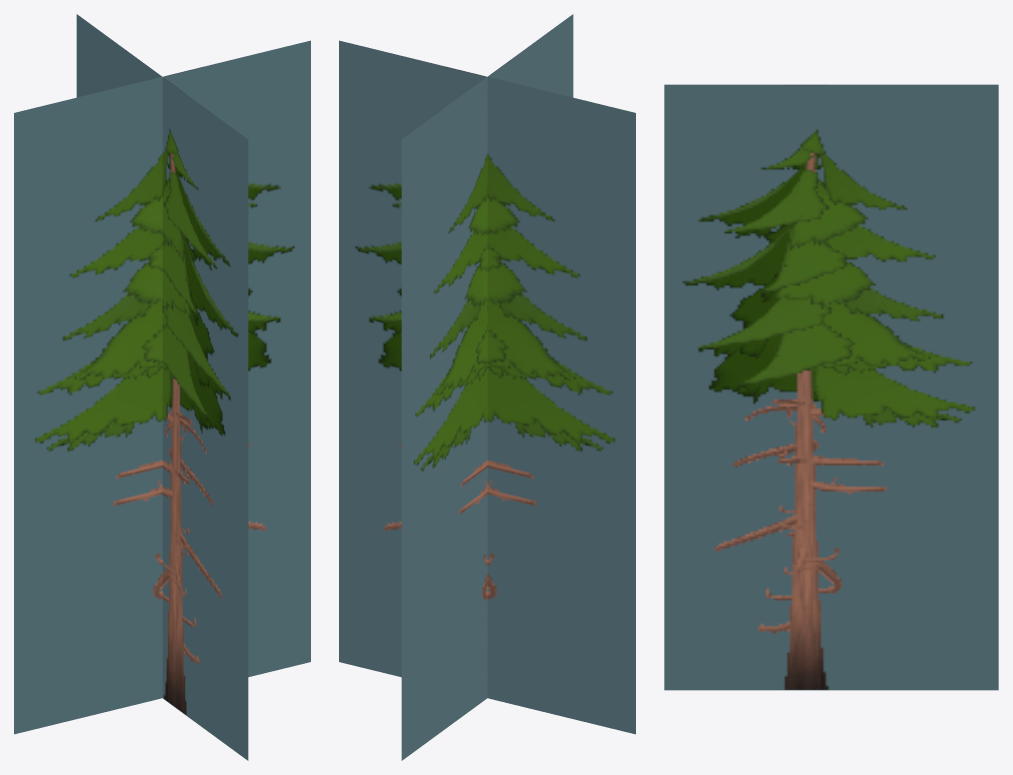
Rendered from pine_3_3.glb.
3 views of the same model, side by side, from view 1: azimuth 30°, elevation 25°; view 2: azimuth 150°, elevation 25°; view 3: azimuth 270°, elevation 25° (orthographic). The views are drawn at different scales.
Visible parts, largest first — view 1: pine_3; view 2: pine_3; view 3: pine_3.
Part boxes in pixels (box(x1,y1,x2,y2)): pine_3: box(14, 14, 310, 760); pine_3: box(339, 14, 635, 760); pine_3: box(664, 84, 998, 690).
Bounding box in the file's own units: 4 × 7.99 × 4.
1 material, 1 textured.
